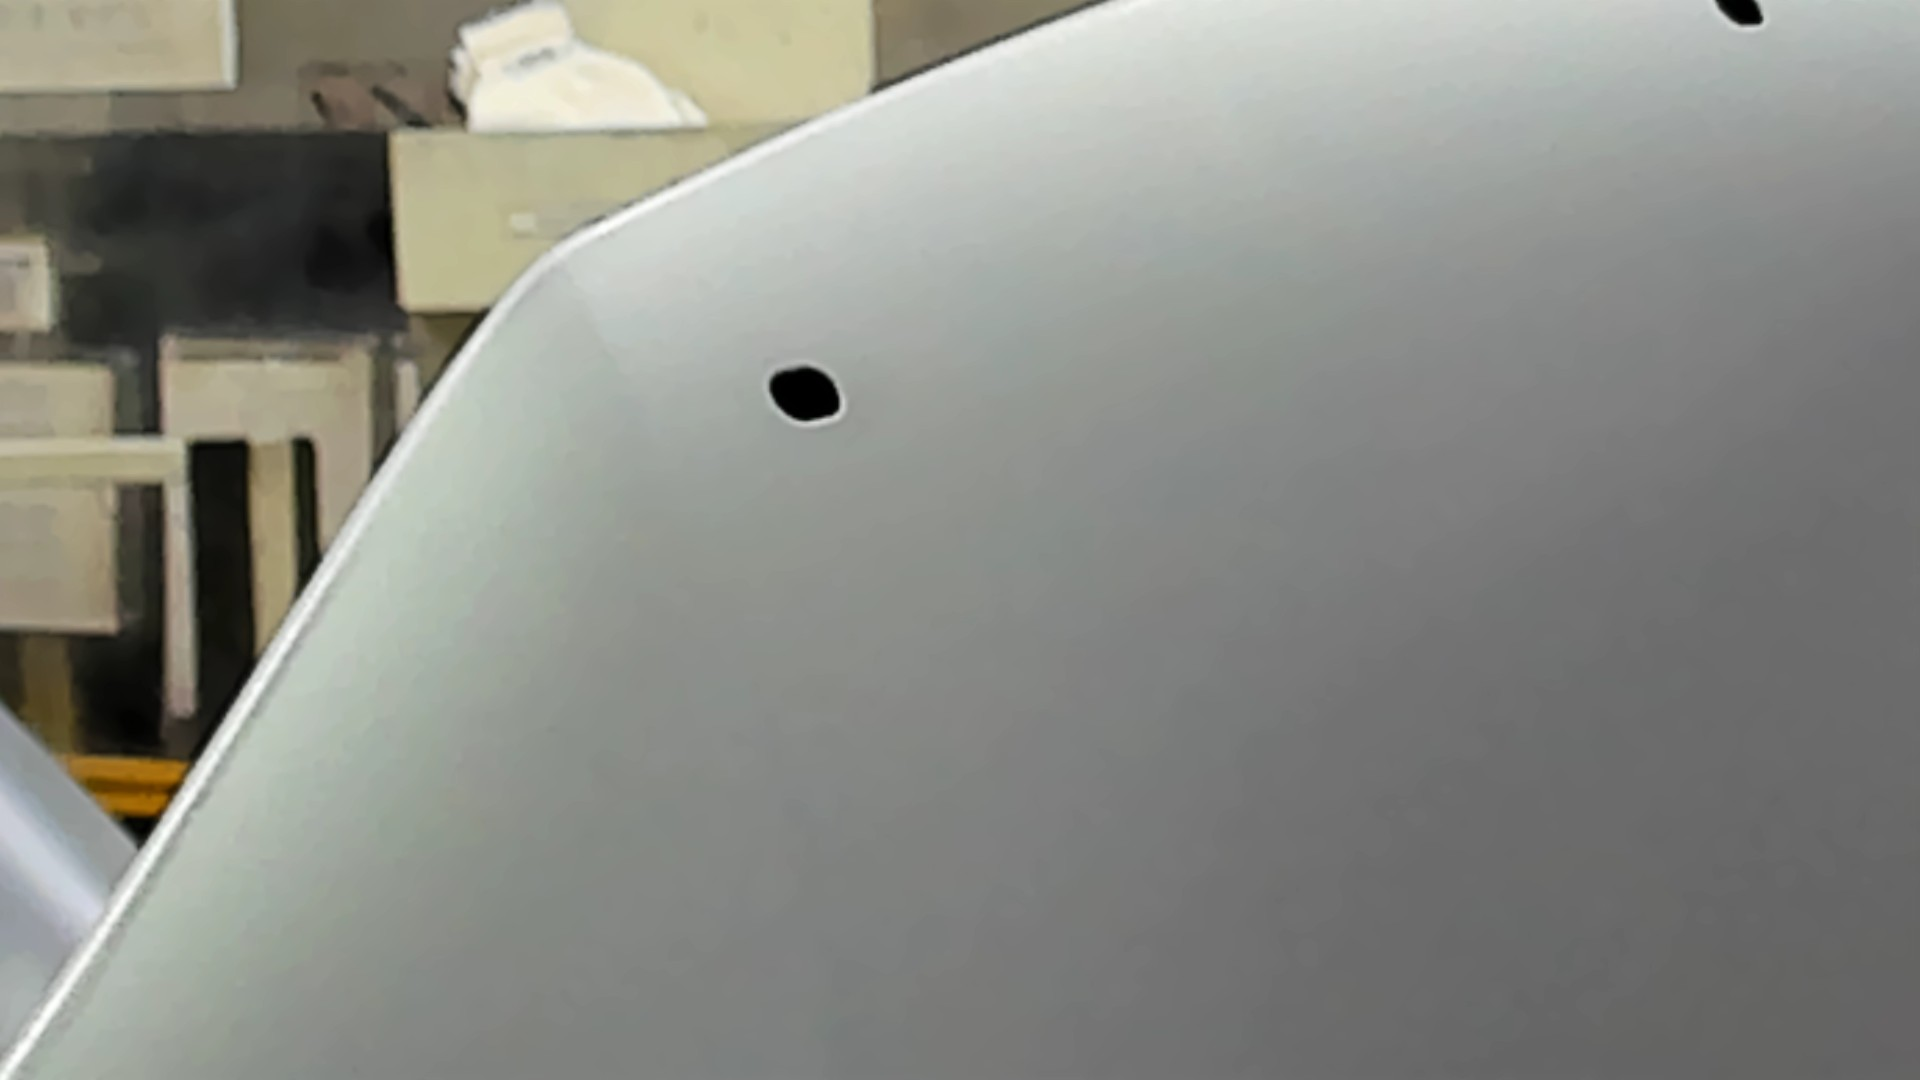amorfo: (756, 361, 848, 431), (1713, 1, 1774, 32)
